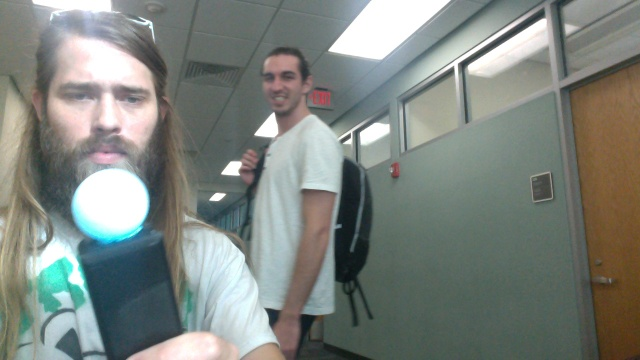wand: (73, 168, 148, 245)
